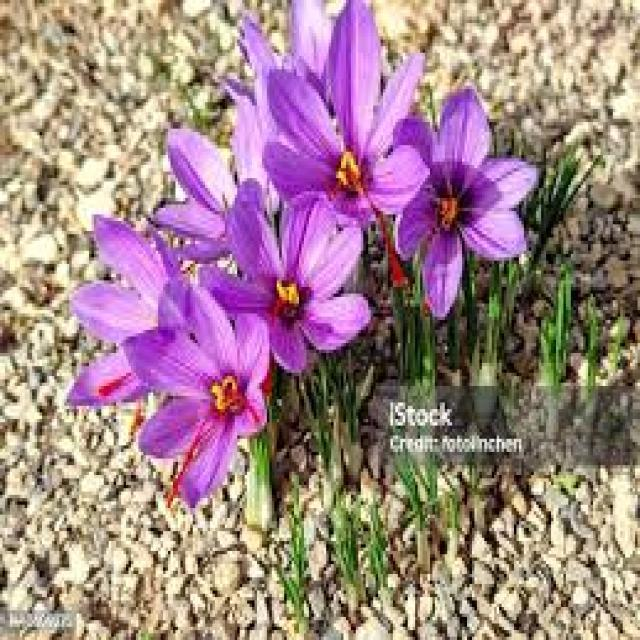Flower: (116, 288, 282, 534), (266, 15, 408, 254), (222, 191, 386, 395), (385, 116, 549, 294)
stigma: (164, 411, 208, 516)
